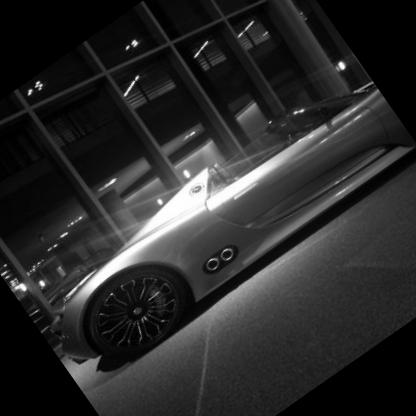car: (12, 44, 416, 408)
